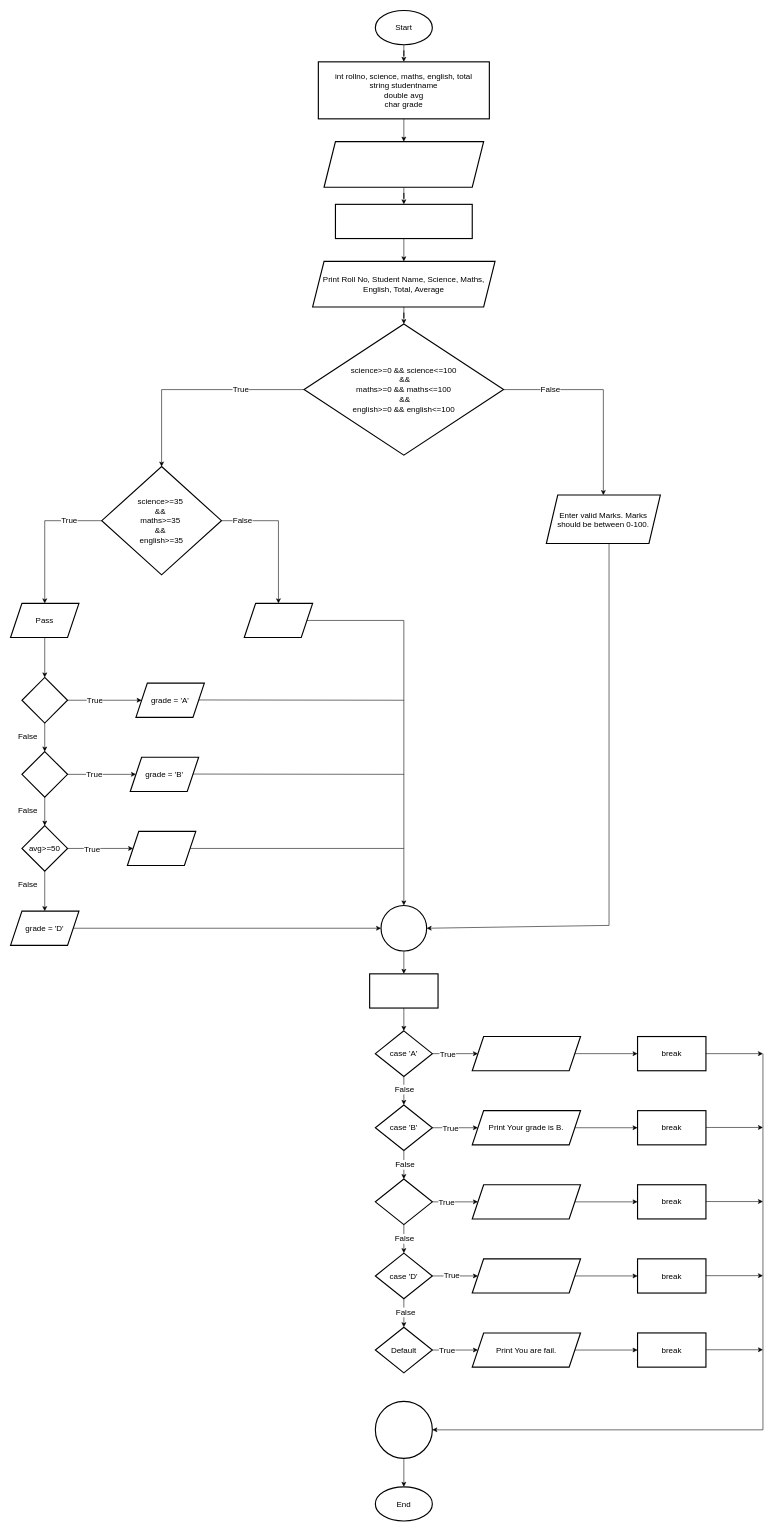
This 777x1531 diagram has some shape labels left out. Each missing label, with the box of its shape:
avg>=60: (21, 751, 68, 797)
avg>=80: (21, 677, 68, 723)
case 'C': (374, 1178, 433, 1225)
Enter rollno, studentname, science maths, english: (323, 141, 484, 188)
grade = 'C': (127, 830, 196, 866)
grade = 'F': (243, 602, 313, 638)
Print Your grade is A.: (471, 1036, 581, 1071)
Print Your grade is C.: (471, 1184, 581, 1219)
Print Your grade is D.: (471, 1258, 581, 1293)
switch (grade): (369, 973, 438, 1008)
total = science + maths + english avg = total / 3: (335, 203, 473, 239)
